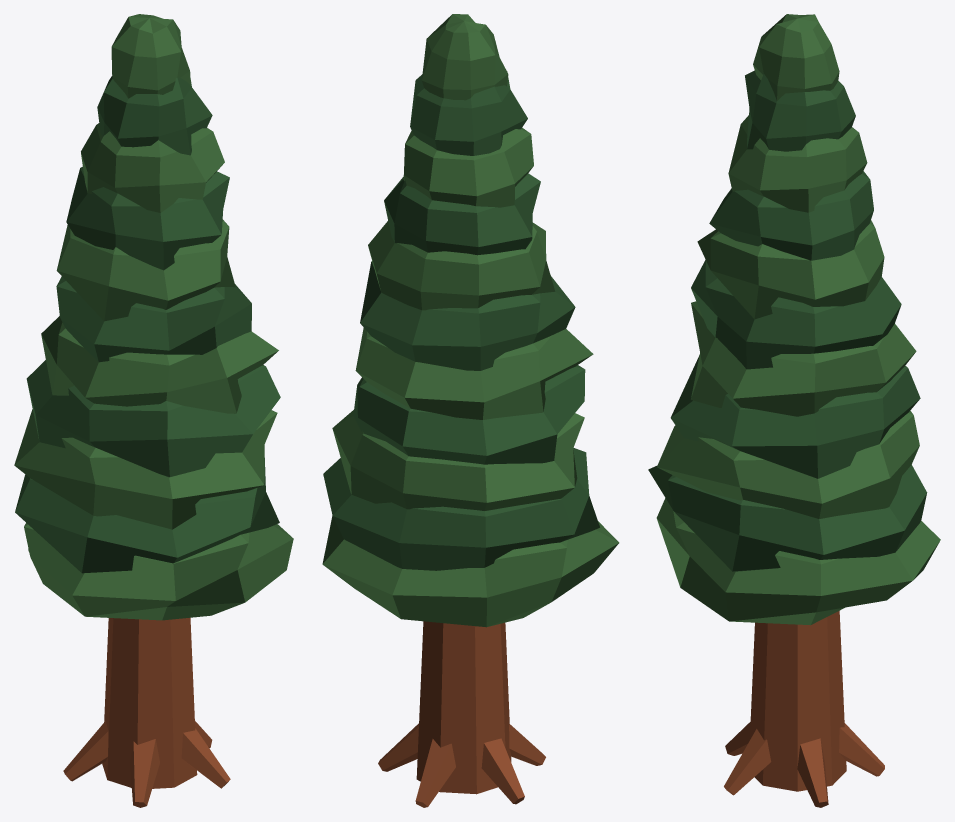
The model's file is tree_sequoia_large.glb.
3 renders of one model, left to right at view 1: azimuth 30°, elevation 25°; view 2: azimuth 150°, elevation 25°; view 3: azimuth 270°, elevation 25°, orthographic.
Visible parts, largest first — view 1: tree_sequoia_large; view 2: tree_sequoia_large; view 3: tree_sequoia_large.
Boxes of the visible parts, box(x1,y1,x2,y2) form: tree_sequoia_large: box(14, 14, 293, 807); tree_sequoia_large: box(322, 14, 619, 807); tree_sequoia_large: box(648, 14, 940, 807).
Size of the model in its own units: 6.37 by 18.36 by 6.43.
